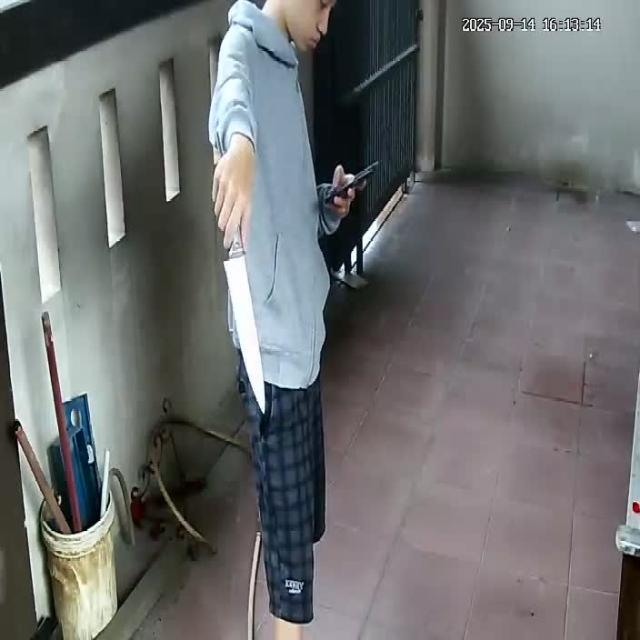senjata_tajam: (222, 245, 268, 418)
